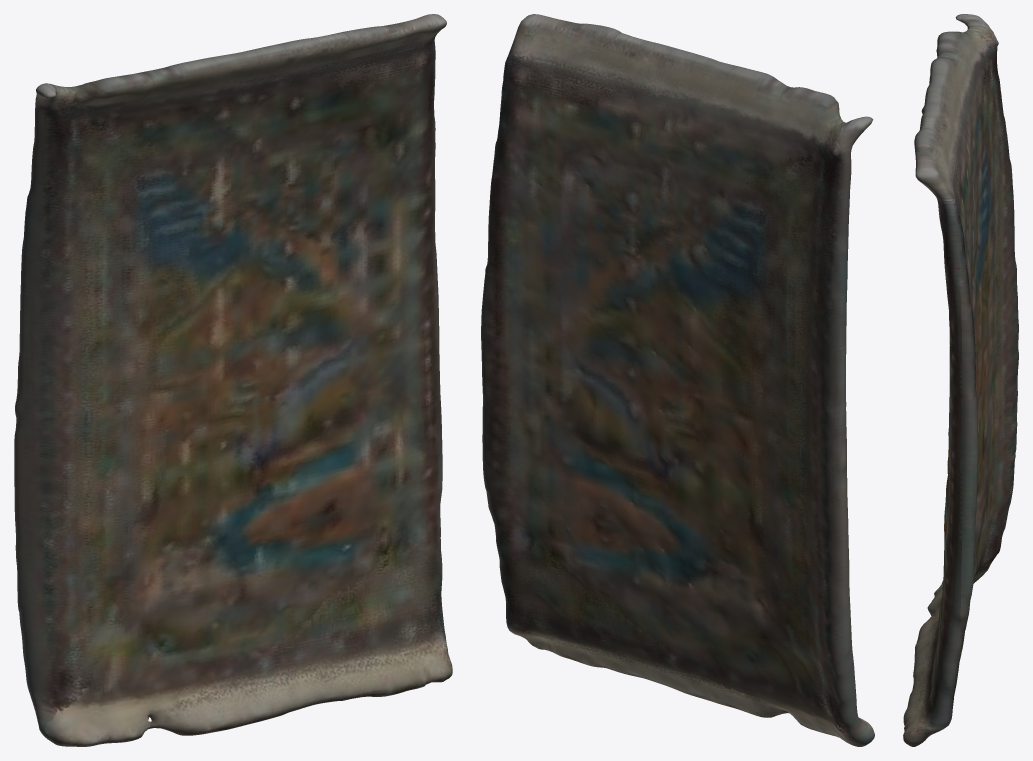
Rendered from kfl-2161.glb.
3 renders of one model, left to right at view 1: azimuth 30°, elevation 25°; view 2: azimuth 150°, elevation 25°; view 3: azimuth 270°, elevation 25°, orthographic. The views are drawn at different scales.
Visible parts, largest first — view 1: geometry_0; view 2: geometry_0; view 3: geometry_0.
Boxes of the visible parts, <box> form: geometry_0: <box>14,14,452,746</box>; geometry_0: <box>481,14,874,746</box>; geometry_0: <box>903,14,1018,746</box>.
Size of the model in its own units: 0.623 by 0.9934 by 0.1787.
Materials: 1 (1 with a texture image).
